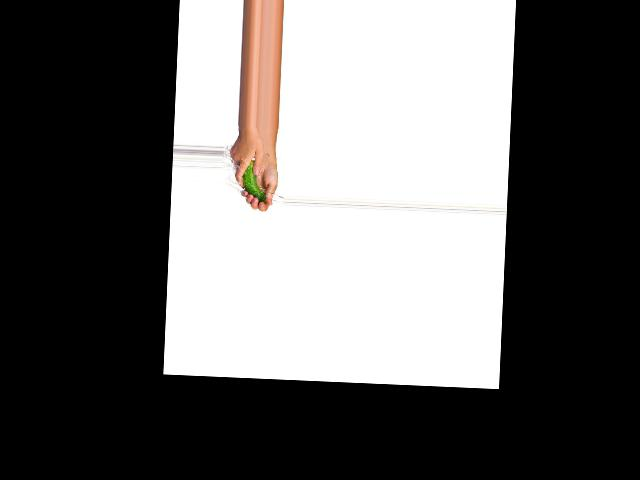cucumber: (241, 159, 267, 203)
